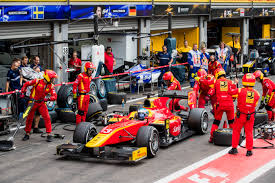race car: (53, 90, 209, 167)
